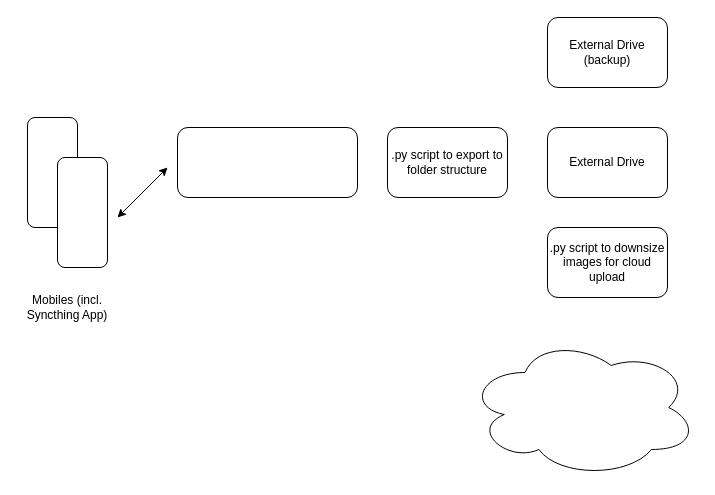
The diagram is 715 pixels wide and 495 high, and some of its shapes have lost their labels. Here are the shapes that lost their labels. From the top down, the box of each, then its label:
(176, 126, 358, 198): WS (incl. Syncthing Server) ".stignore" to configure file sync
(466, 336, 698, 478): Cloud
